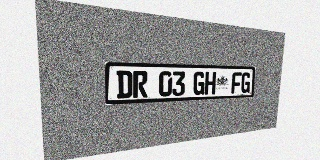0: (158, 71, 172, 97)
3: (172, 71, 185, 96)
D: (116, 70, 132, 98)
F: (231, 72, 242, 94)
G: (193, 72, 205, 95), (240, 72, 251, 93)
H: (204, 72, 216, 95)
R: (133, 71, 148, 98)
